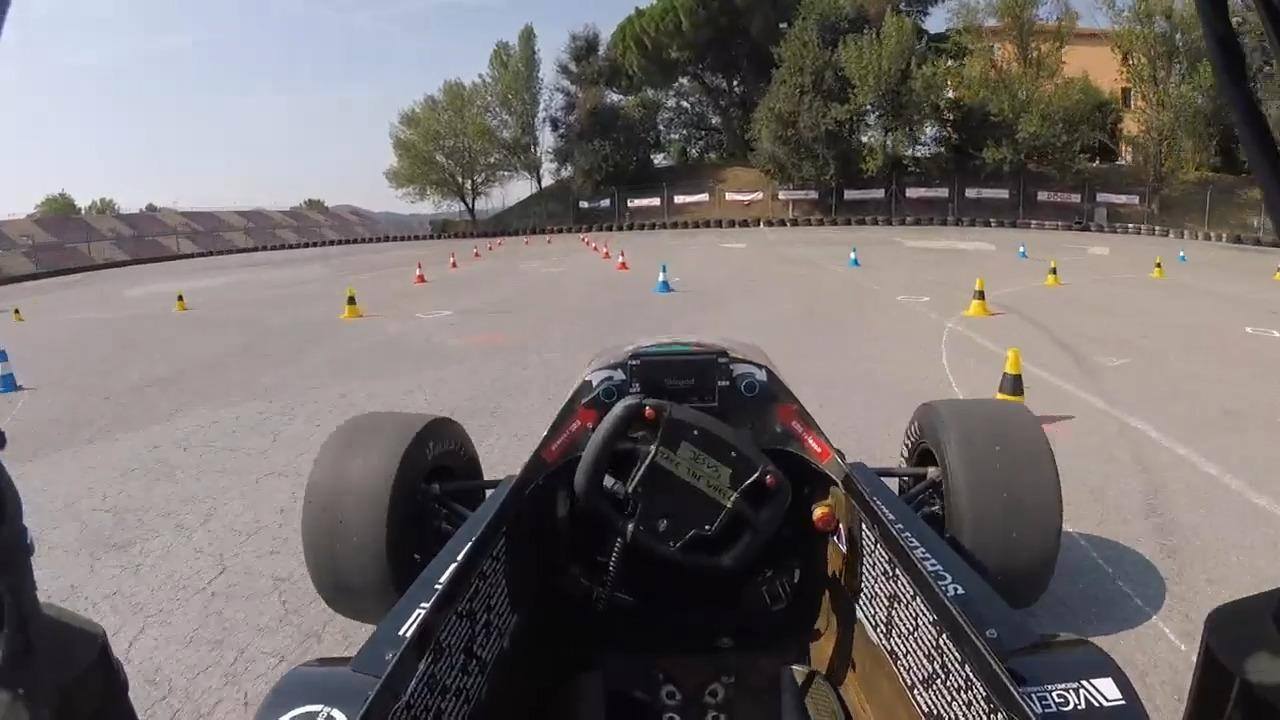blue_cone: (653, 264, 674, 292), (848, 246, 862, 267)
orange_cone: (412, 262, 429, 284), (616, 249, 631, 270)
yellow_cone: (980, 347, 1037, 440), (342, 287, 364, 320), (1046, 260, 1062, 286), (1152, 256, 1166, 278), (175, 289, 187, 310)
